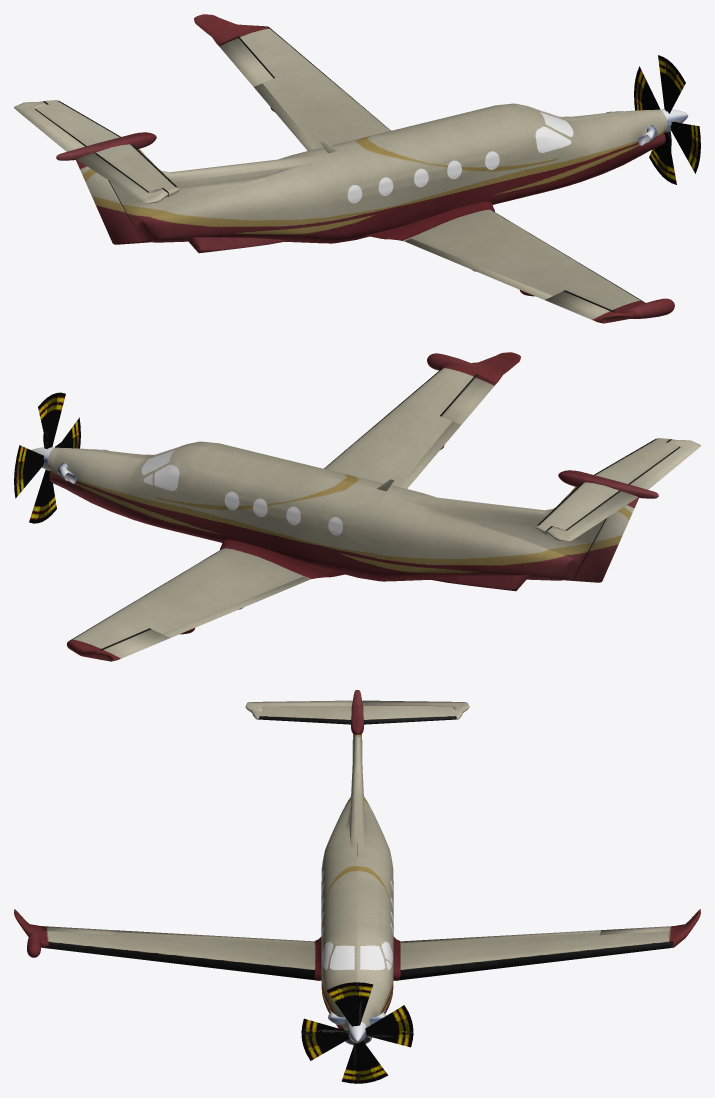
3 views of the same model, one above another, from view 1: azimuth 30°, elevation 25°; view 2: azimuth 150°, elevation 25°; view 3: azimuth 270°, elevation 25° (orthographic). The views are drawn at different scales.
Parts seen in each view (by area): view 1: fuselage; view 2: fuselage; view 3: fuselage.
Boxes of the visible parts, x1=… form: fuselage: x1=14, y1=14, x2=700, y2=323; fuselage: x1=14, y1=352, x2=700, y2=661; fuselage: x1=14, y1=690, x2=700, y2=1083.
Bounding box in the file's own units: 14.39 × 3.8 × 16.21.
Materials: 3 (2 with a texture image).
